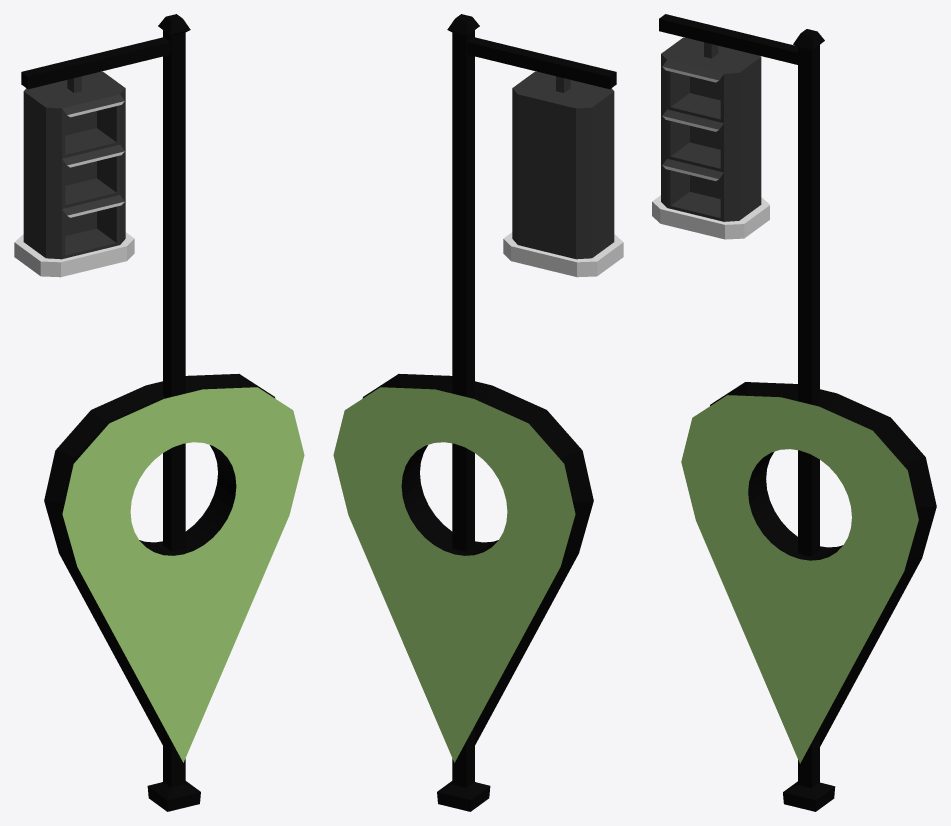
Rendered from Signale And Nav.fbx.
3 renders of one model, left to right at view 1: azimuth 30°, elevation 25°; view 2: azimuth 150°, elevation 25°; view 3: azimuth 330°, elevation 25°, orthographic.
Parts seen in each view (by area): view 1: Cube, Cube.001; view 2: Cube, Cube.001; view 3: Cube, Cube.001.
Part boxes in pixels (<box>): Cube: <box>44,374,304,762</box>; Cube.001: <box>14,14,200,811</box>; Cube: <box>333,374,593,762</box>; Cube.001: <box>437,14,623,811</box>; Cube: <box>681,382,936,763</box>; Cube.001: <box>652,14,835,811</box>.
Bounding box in the file's own units: 3799 × 10506 × 975.
